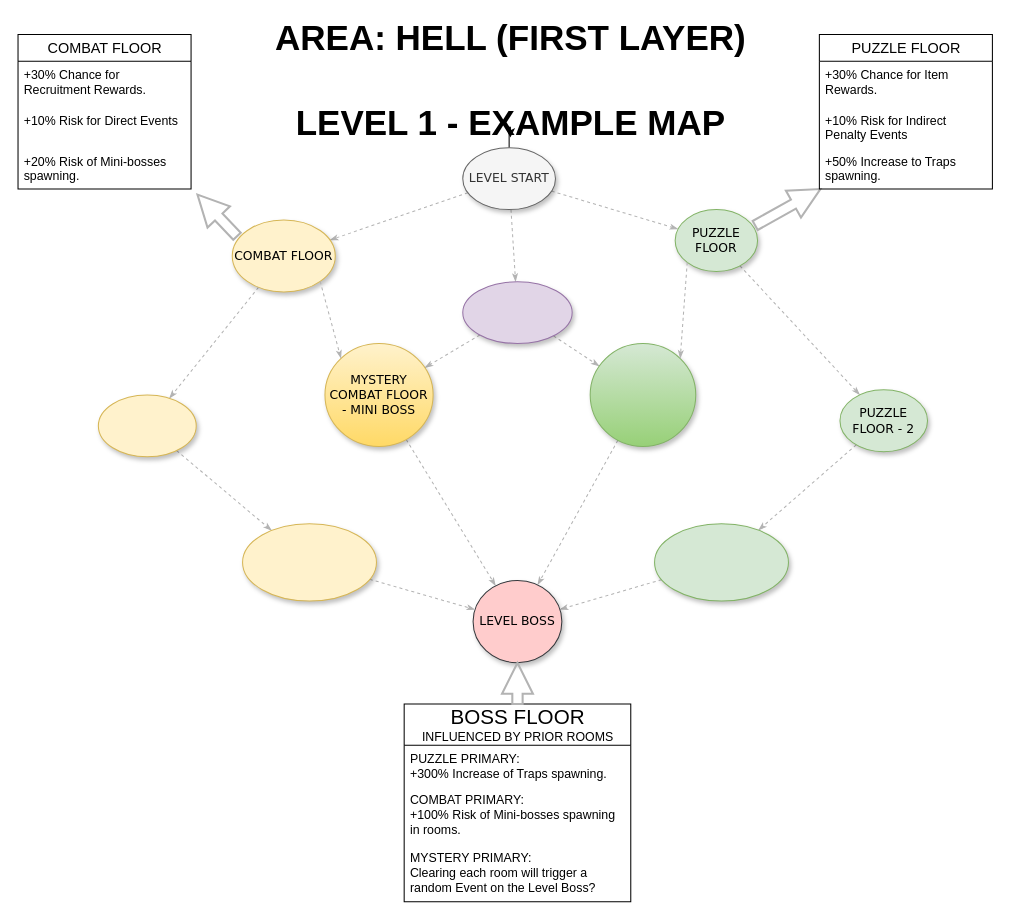
Some shapes in this 1010 by 922 pixel diagram are drawn without their labels. The shapes that lost their labels are listed below. From the top down, each one's centre as x and y in pixels, then its label:
At point (518, 314): "MYSTERY FLOOR".
At point (643, 396): "MYSTERY PUZZLE FLOOR - MINI BOSS".
At point (147, 427): "COMBAT FLOOR - 2".
At point (310, 563): "COMBAT FLOOR - MINI BOSS".
At point (722, 563): "PUZZLE FLOOR - MINI BOSS".
